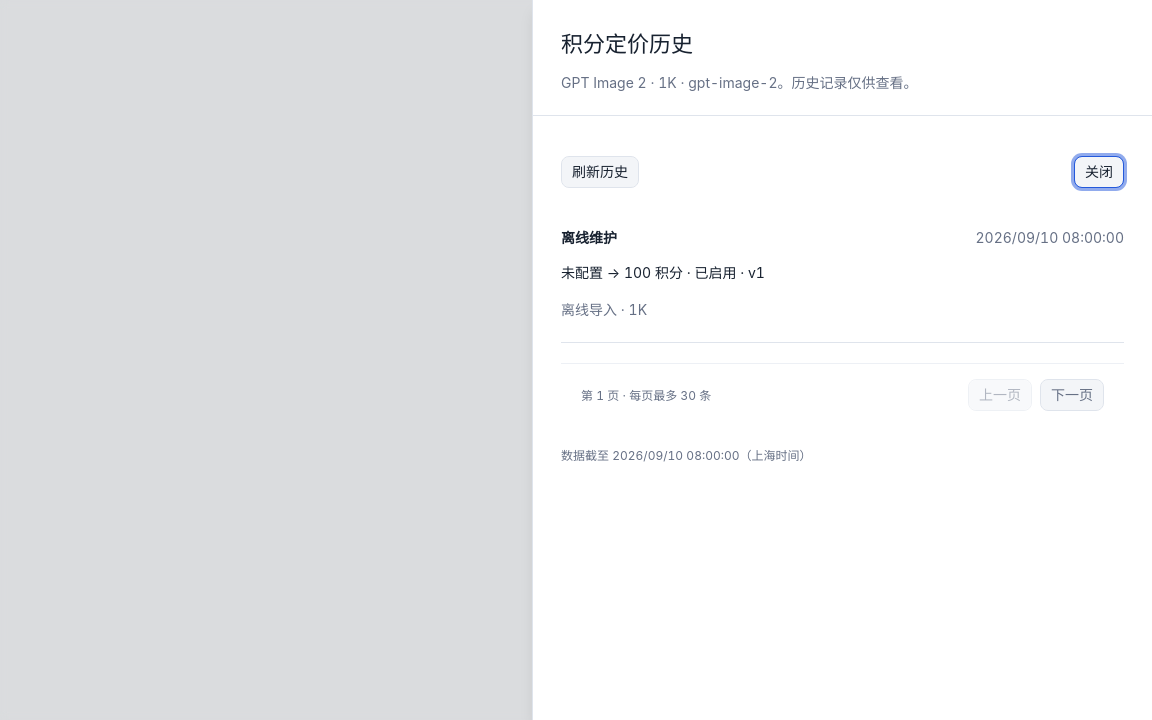
Scenario: paginates scoped history and resets the cursor on refresh
The image size is (1152, 720).
expect the text "离线维护" is shown: met, box [561,228,617,248]
expect the text "离线导入 · 1K" is shown: met, box [561,301,647,318]
Click the button "下一页".
click(1072, 395)  # box [1040,379,1104,411]
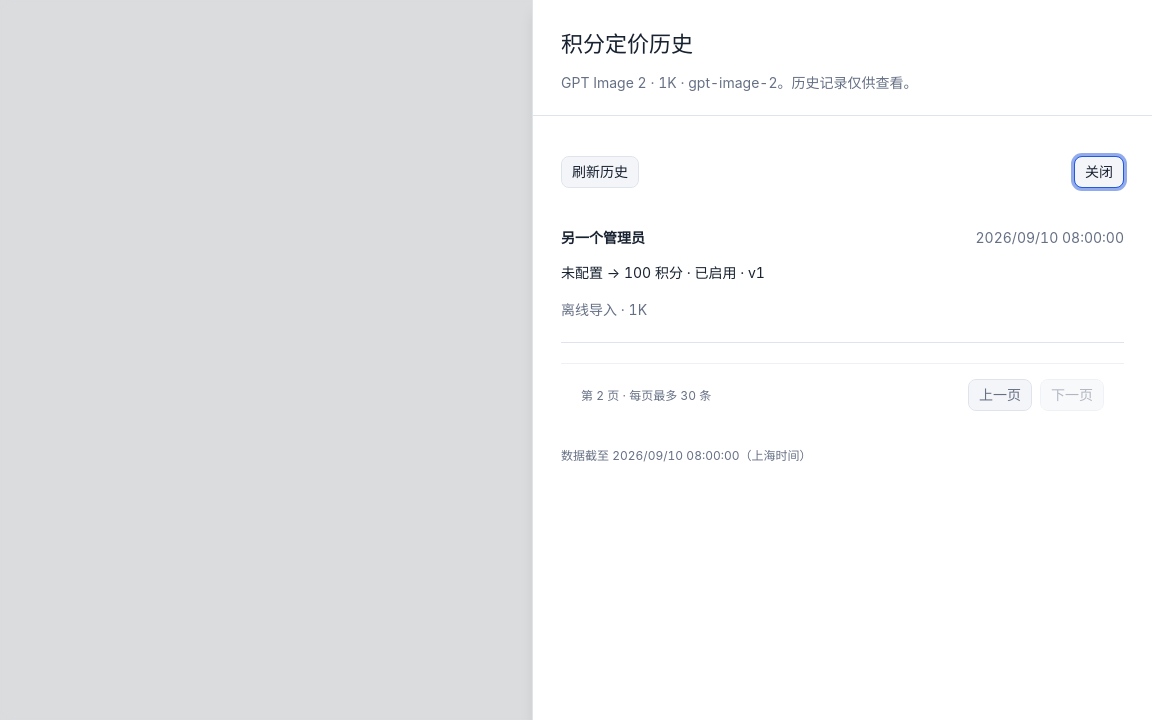
expect the text "另一个管理员" is shown: met, box [561,228,645,248]
expect the button "下一页" is disabled: met, box [1040,379,1104,411]
Click the button "刷新历史".
click(600, 172)  # box [561,156,639,188]
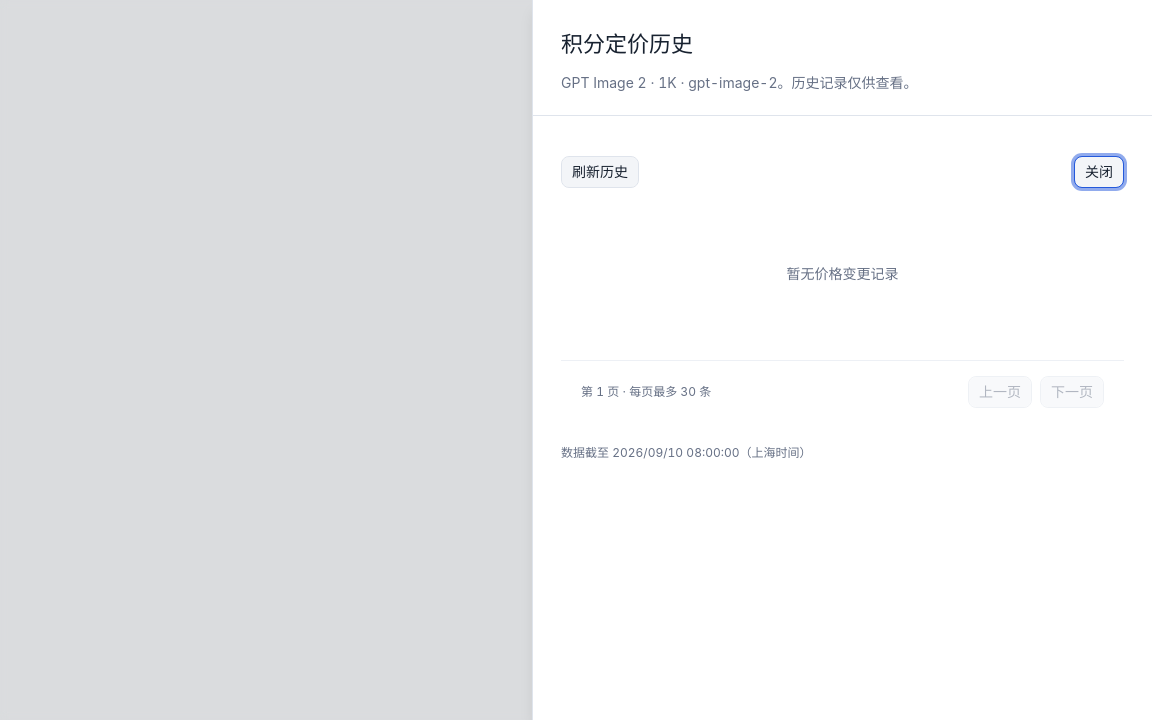
expect the text "暂无价格变更记录" is shown: met, box [786,265,898,282]
